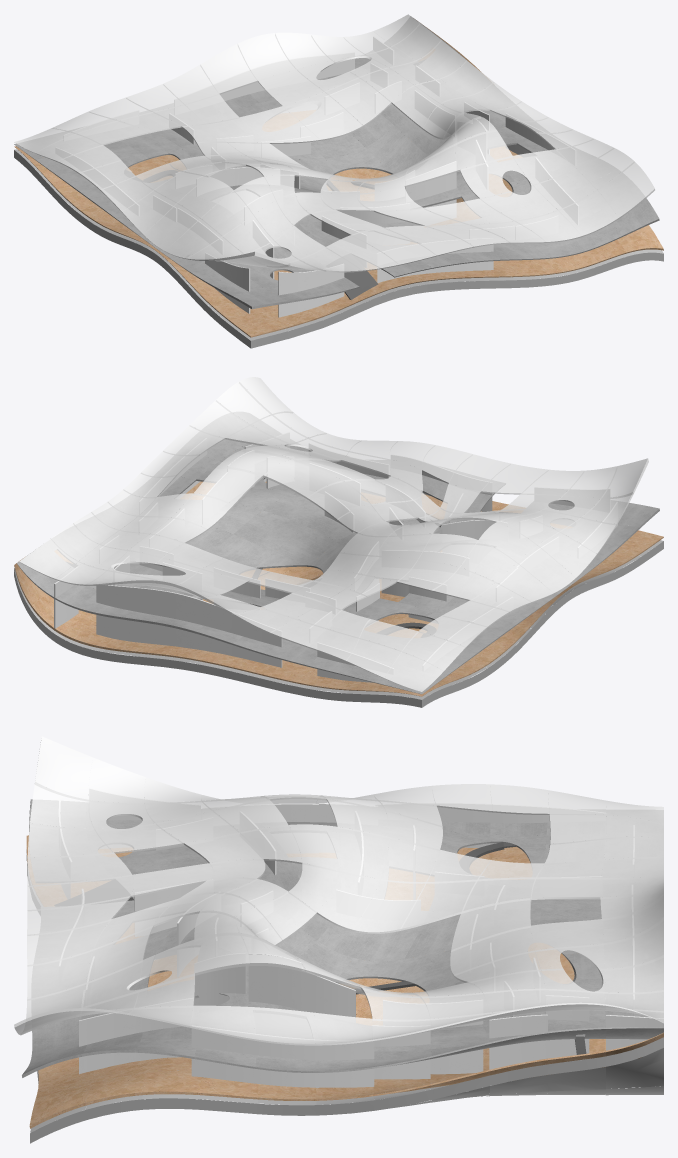
3 renders of one model, top to bottom at view 1: azimuth 30°, elevation 25°; view 2: azimuth 150°, elevation 25°; view 3: azimuth 270°, elevation 25°, orthographic. The views are drawn at different scales.
Parts seen in each view (by area): view 1: Roof, 1f, Walls, GF, Base, Circ; view 2: Roof, 1f, Walls, GF, Base, Circ; view 3: Roof, 1f, Walls, GF, Base, Circ.
Boxes of the visible parts, x1=… form: Roof: x1=14, y1=14, x2=654, y2=272; 1f: x1=14, y1=16, x2=659, y2=309; Walls: x1=56, y1=37, x2=578, y2=317; GF: x1=14, y1=23, x2=663, y2=337; Base: x1=14, y1=149, x2=663, y2=348; Circ: x1=124, y1=60, x2=424, y2=299; Roof: x1=19, y1=377, x2=648, y2=691; 1f: x1=17, y1=412, x2=659, y2=694; Walls: x1=54, y1=433, x2=617, y2=682; GF: x1=14, y1=481, x2=663, y2=696; Base: x1=14, y1=514, x2=663, y2=707; Circ: x1=67, y1=511, x2=503, y2=637; Roof: x1=14, y1=736, x2=663, y2=1045; 1f: x1=22, y1=799, x2=663, y2=1077; Walls: x1=59, y1=789, x2=663, y2=1087; GF: x1=26, y1=835, x2=663, y2=1128; Base: x1=26, y1=853, x2=663, y2=1143; Circ: x1=55, y1=842, x2=586, y2=1054.
Size of the model in its own units: 55.8 by 16.73 by 56.1.
Materials: 7 (3 with a texture image).
